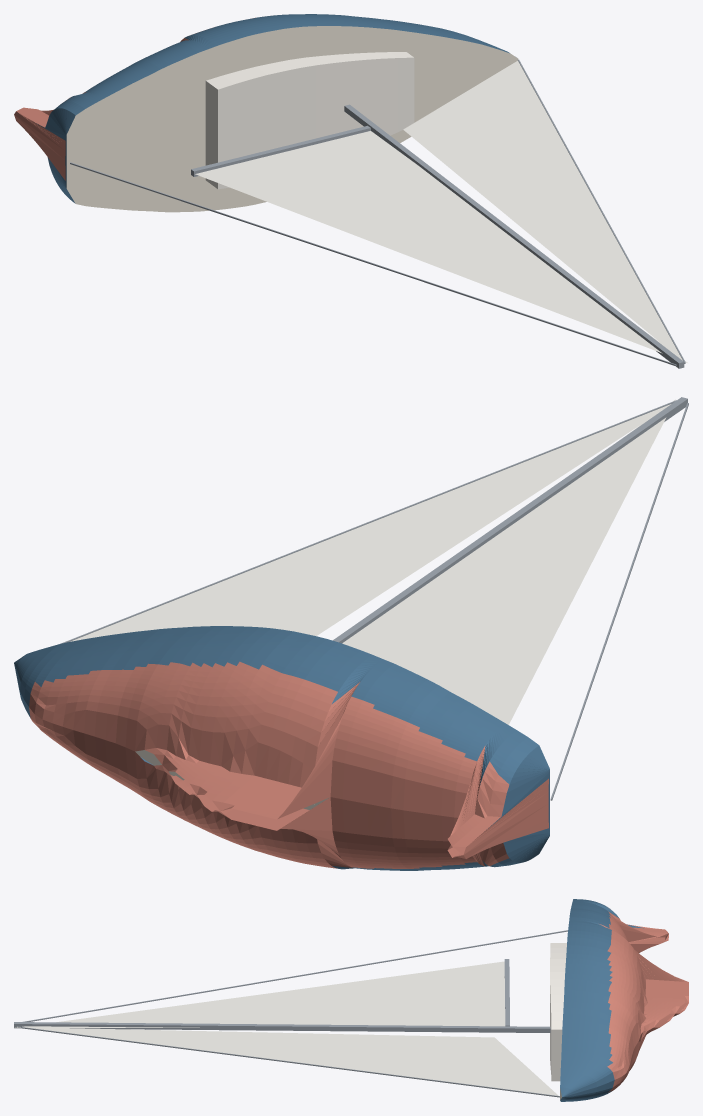
The model's file is catalina-30-mkii.glb.
3 renders of one model, top to bottom at view 1: azimuth 30°, elevation 25°; view 2: azimuth 150°, elevation 25°; view 3: azimuth 270°, elevation 25°, orthographic. The views are drawn at different scales.
Visible parts, largest first — view 1: Catalina 30 Mk II; view 2: Catalina 30 Mk II; view 3: Catalina 30 Mk II.
Boxes of the visible parts, box(x1,y1,x2,y2) form: Catalina 30 Mk II: box(14, 14, 687, 368); Catalina 30 Mk II: box(14, 397, 688, 870); Catalina 30 Mk II: box(14, 899, 688, 1101).
Bounding box in the file's own units: 2 × 0.7312 × 3.4.
